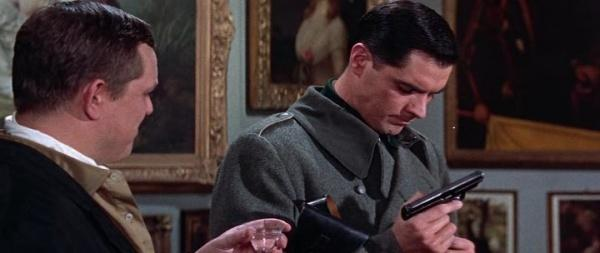Gun: (402, 170, 487, 223)
